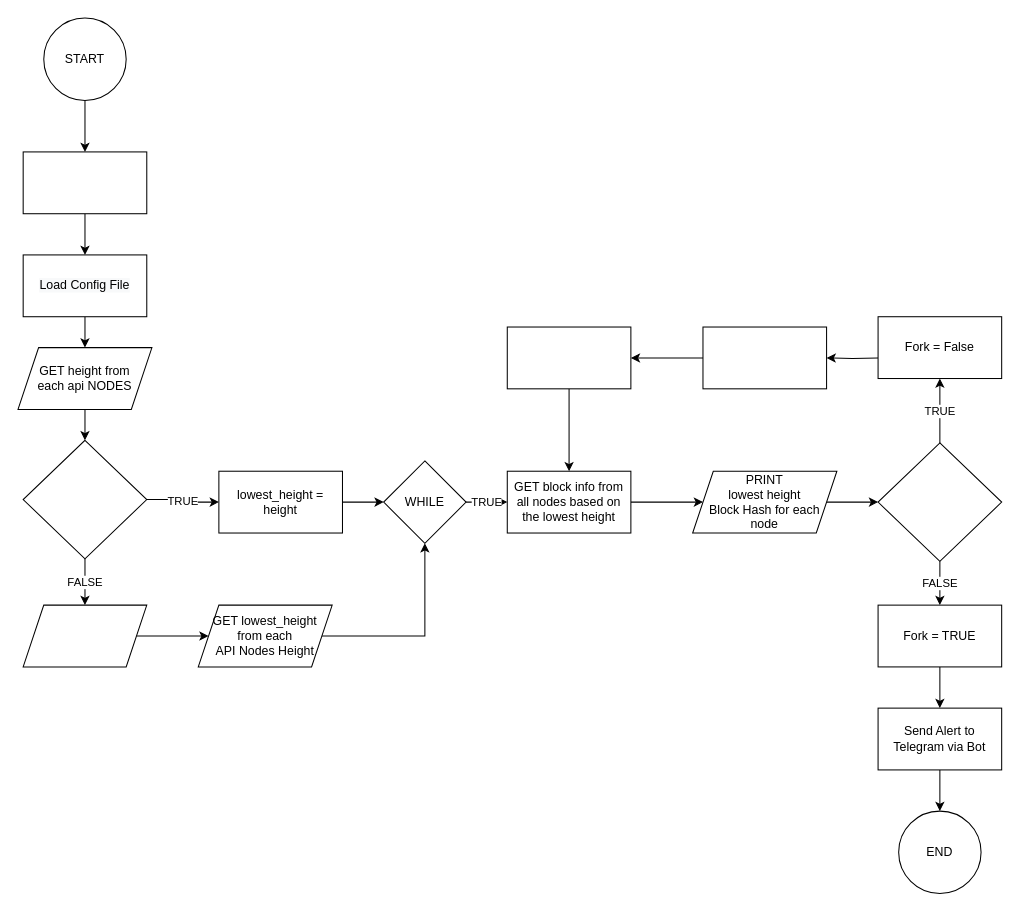
Image size: 1020x912. Some labels were removed from this diagram. The centre of each missing label's shape, as x and y in pixels:
"Initialize and Load API Nodes" goes at point 84,182.
"IS all block hash equal ?" goes at point 939,501.
"IS all height equal?" goes at point 84,499.
"lowest_height++" goes at point 764,357.
"PRINT height is not equal" goes at point 84,635.
"Sleep for 30 seconds" goes at point 568,357.
